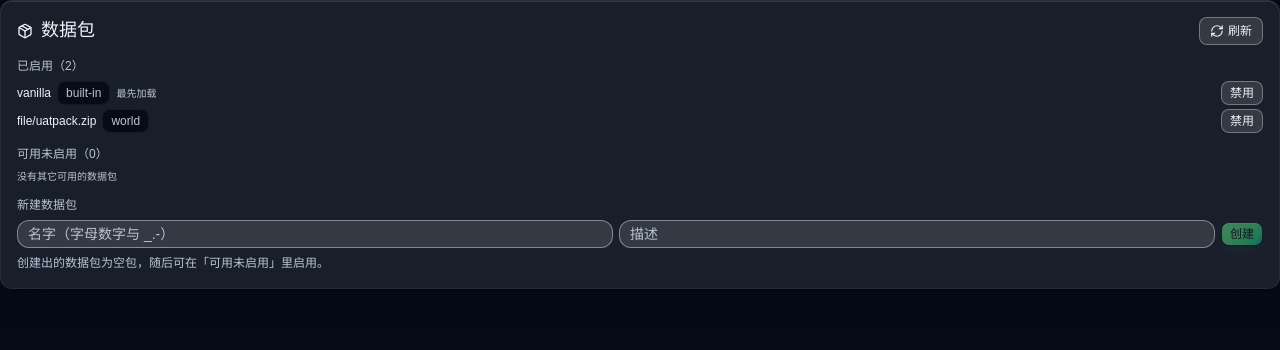
DatapackPanel › 创建：描述含引号时本地拦下，不发命令（而不是发出去被服务端拒）
Check: the text "file/uatpack.zip" is shown, box [17, 112, 96, 130]
Type "uatnew" into the field named "新数据包名字" at (315, 234), box [17, 220, 613, 248]
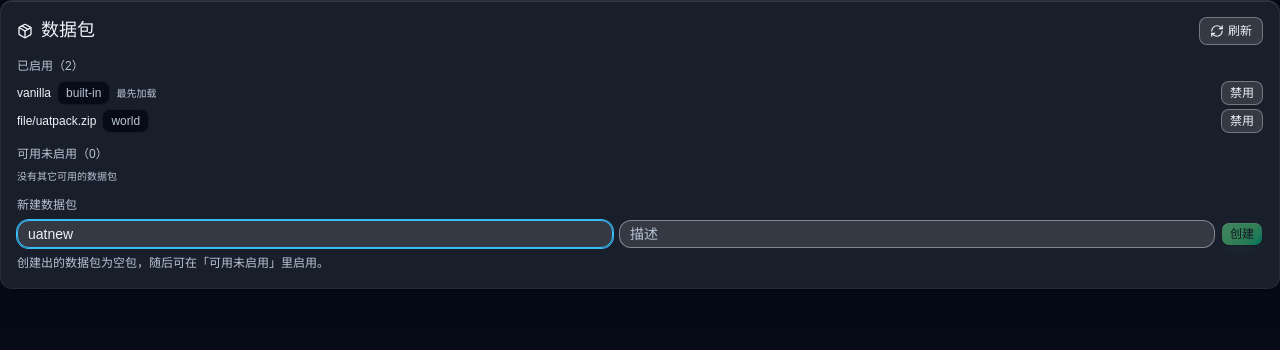
Type "he said \"hi\"" into the field named "新数据包描述" at (917, 234), box [619, 220, 1215, 248]
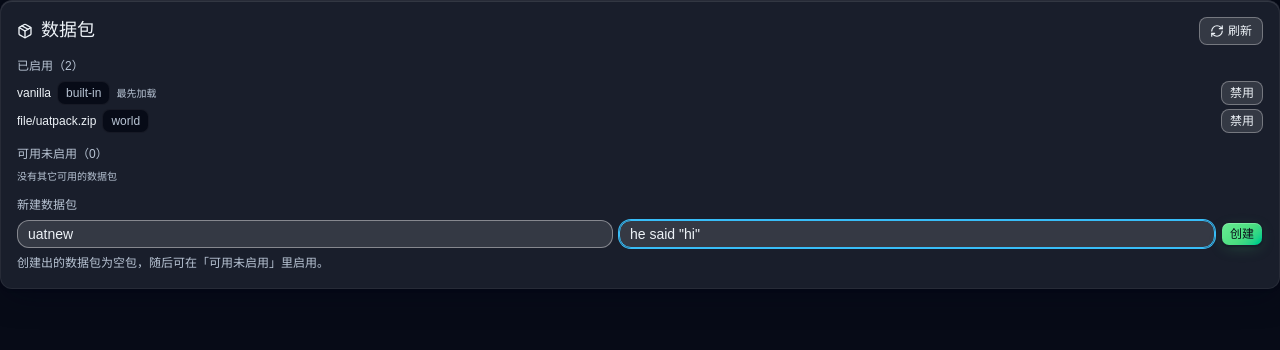
Click the button "创建" at (1242, 234), box [1221, 222, 1263, 246]
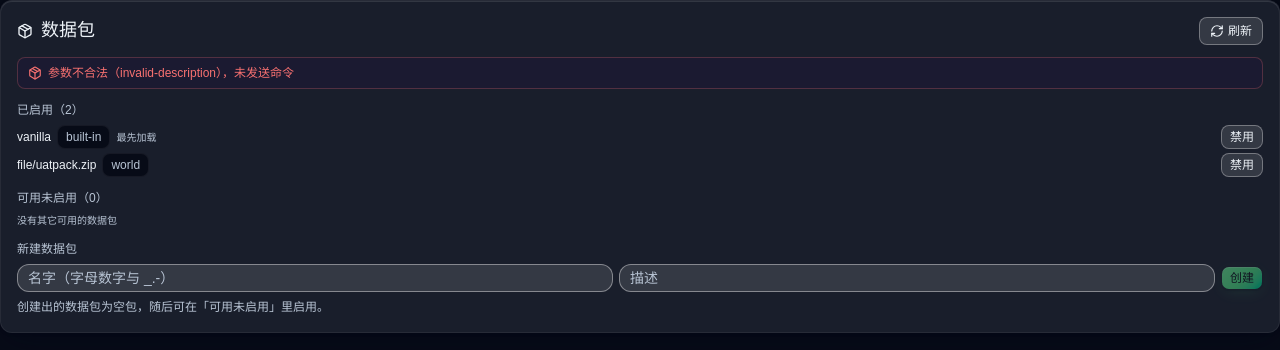
Check: the text "参数不合法（invalid-description），未发送命令" is shown, box [48, 66, 294, 80]
